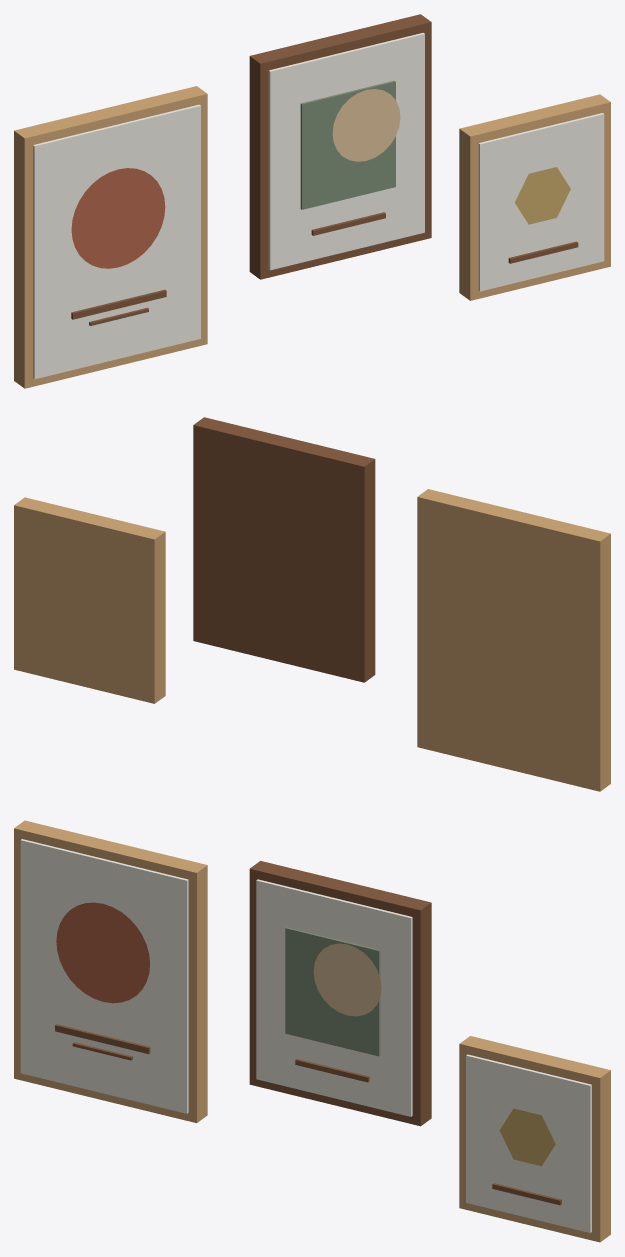
File: frames.glb
3 views of the same model, one above another, from view 1: azimuth 30°, elevation 25°; view 2: azimuth 150°, elevation 25°; view 3: azimuth 330°, elevation 25° (orthographic).
Size of the model in its own units: 2.5 by 1.18 by 0.11.
